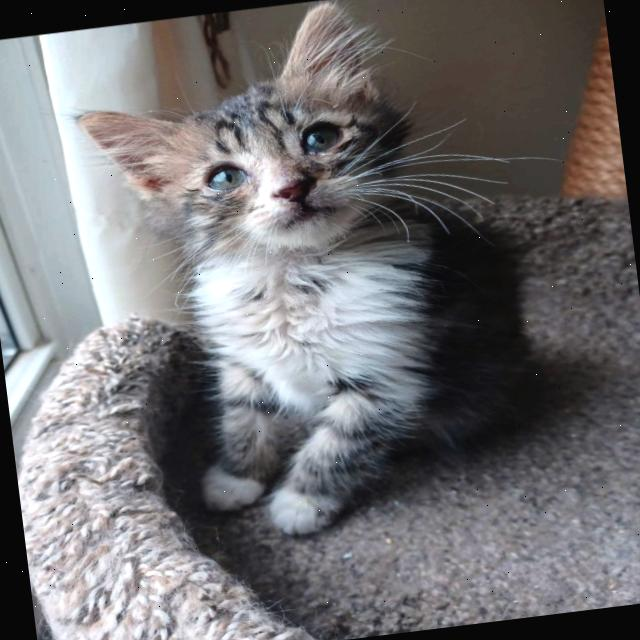maine_coon_cat: (46, 0, 458, 299)
